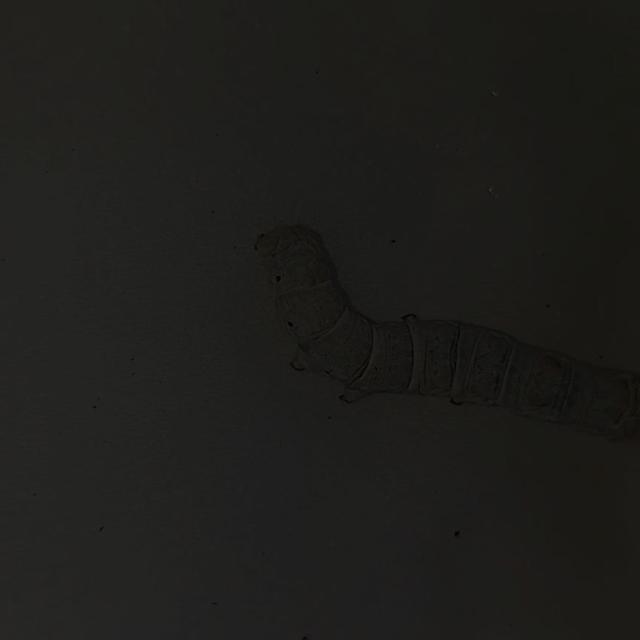Healthy: (245, 216, 640, 469)
